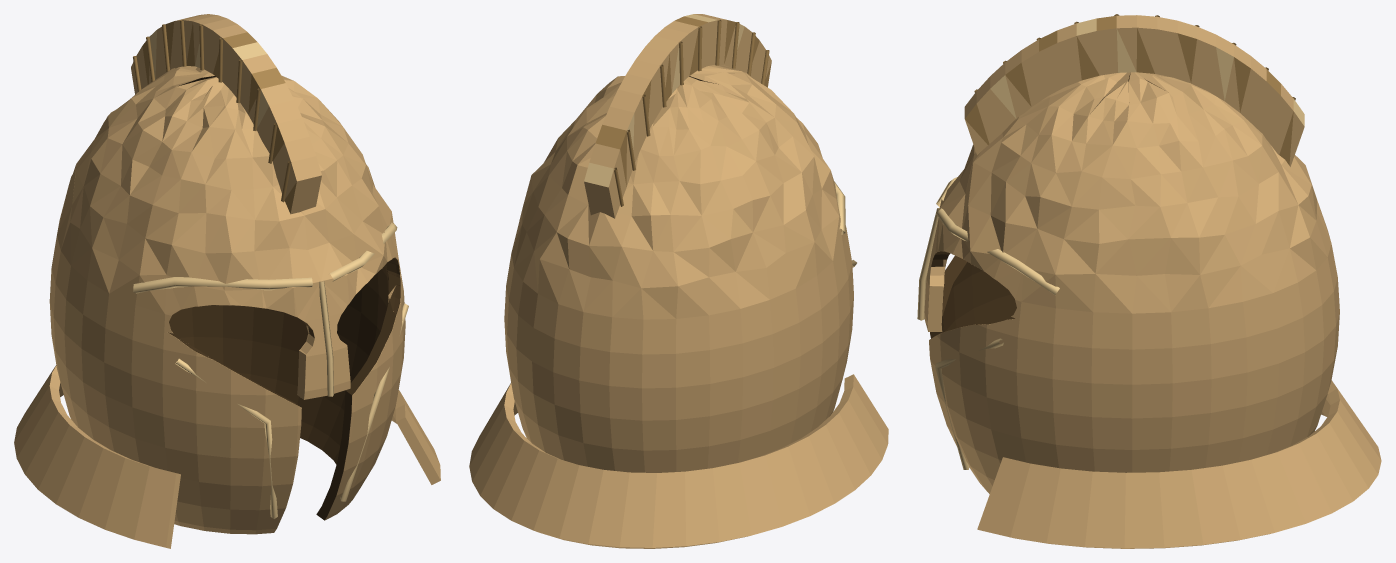
The model's file is neck.glb.
3 views of the same model, side by side, from view 1: azimuth 30°, elevation 25°; view 2: azimuth 150°, elevation 25°; view 3: azimuth 270°, elevation 25° (orthographic). The views are drawn at different scales.
Parts seen in each view (by area): view 1: Hollow helmet shell.006, Swept neck flare, Radial fan crest.005, Sculpted brow.012, Nasal spine.006, Cheek ridge.012, Cheek ridge.013, Sculpted brow.013; view 2: Hollow helmet shell.006, Swept neck flare, Radial fan crest.005; view 3: Hollow helmet shell.006, Swept neck flare, Radial fan crest.005, Sculpted brow.013, Nasal spine.006, Cheek ridge.013.
Part boxes in pixels (x1,y1,x2,y2): Hollow helmet shell.006: [49, 66, 405, 534]; Swept neck flare: [14, 365, 440, 548]; Radial fan crest.005: [131, 14, 321, 214]; Sculpted brow.012: [133, 277, 312, 293]; Nasal spine.006: [319, 281, 333, 396]; Cheek ridge.012: [175, 358, 277, 518]; Cheek ridge.013: [340, 303, 408, 501]; Sculpted brow.013: [329, 222, 397, 281]; Hollow helmet shell.006: [504, 65, 853, 472]; Swept neck flare: [469, 374, 888, 548]; Radial fan crest.005: [584, 14, 771, 218]; Hollow helmet shell.006: [924, 72, 1339, 493]; Swept neck flare: [977, 380, 1381, 548]; Radial fan crest.005: [964, 15, 1304, 166]; Sculpted brow.013: [936, 208, 1059, 295]; Nasal spine.006: [917, 208, 939, 320]; Cheek ridge.013: [935, 338, 1003, 469].
Bounding box in the file's own units: 1.54 × 1.86 × 1.72.
